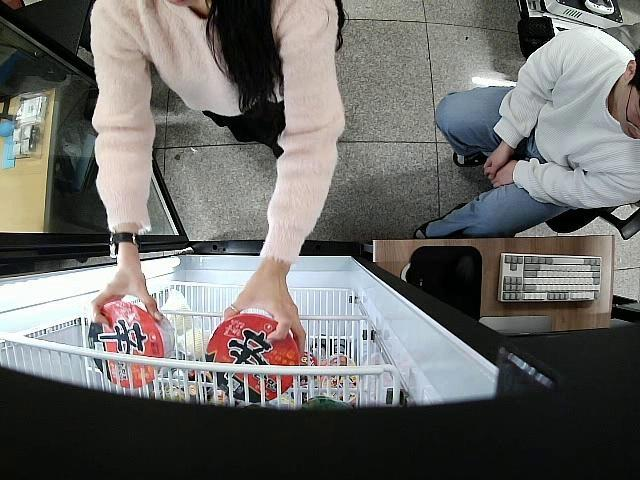01_ShinRamen_L: (206, 312, 300, 404), (87, 301, 172, 388)
